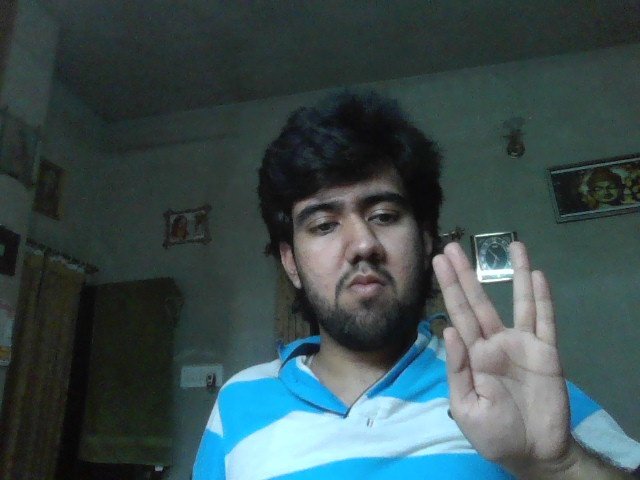LiveLong: (432, 241, 571, 462)
